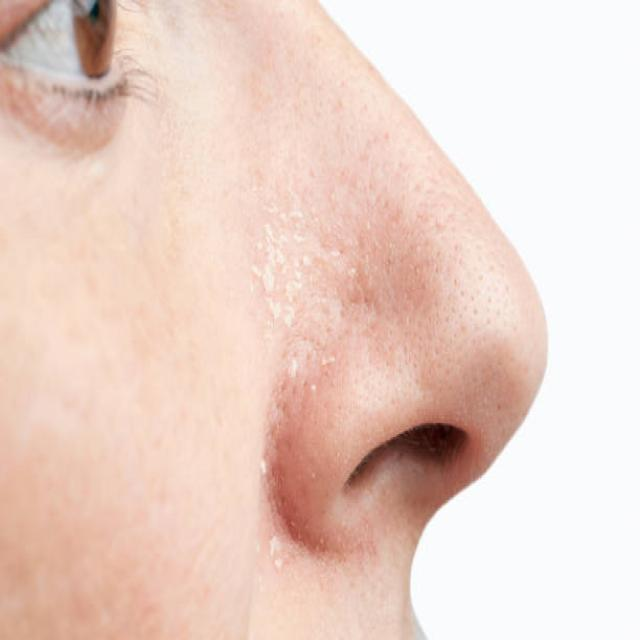dry: (178, 113, 400, 598)
